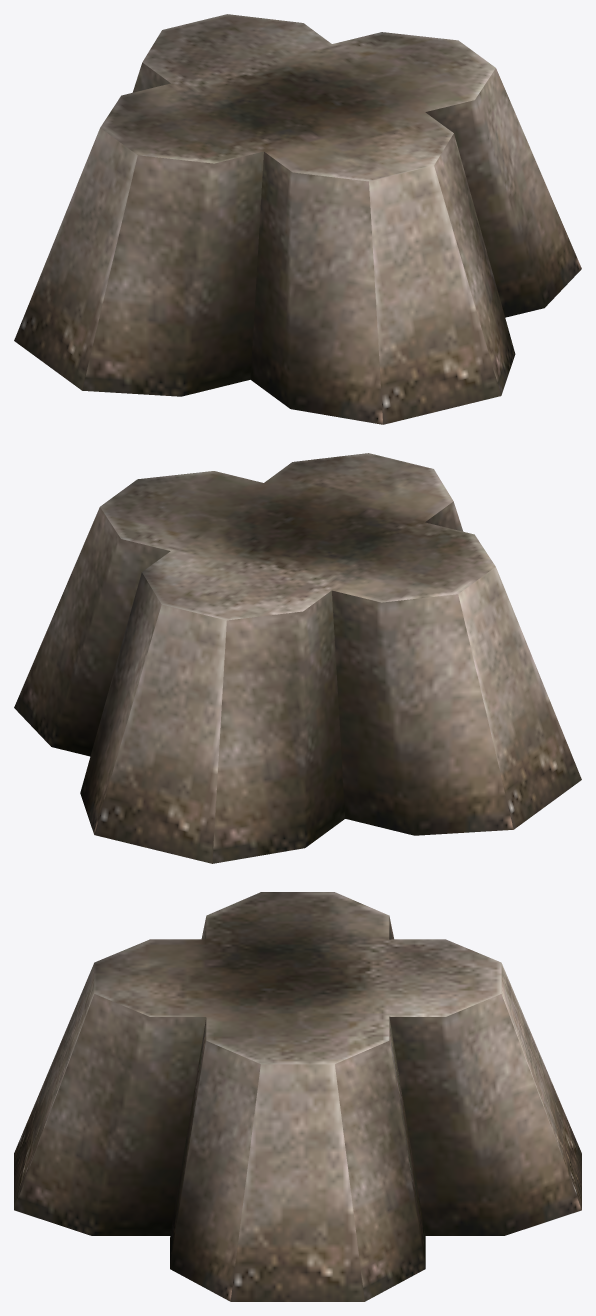
File: stst132.dae
3 renders of one model, top to bottom at view 1: azimuth 30°, elevation 25°; view 2: azimuth 150°, elevation 25°; view 3: azimuth 270°, elevation 25°, orthographic.
Parts seen in each view (by area): view 1: pod1; view 2: pod1; view 3: pod1.
Part boxes in pixels (x1=…): pod1: x1=14, y1=14, x2=581, y2=424; pod1: x1=14, y1=453, x2=581, y2=863; pod1: x1=14, y1=892, x2=581, y2=1301.
Size of the model in its own units: 1.47 by 1.47 by 0.5803.
Materials: 1 (1 with a texture image).
